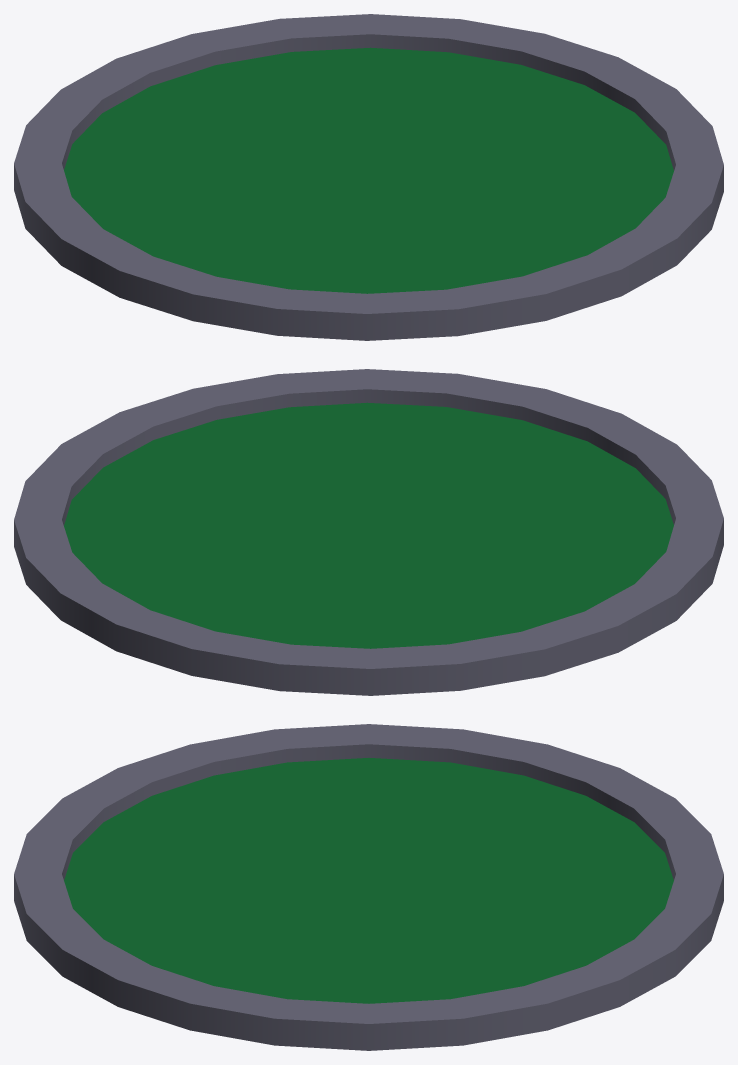
File: border_lawn_circle.fbx
The picture shows the model from 3 angles, top to bottom: view 1: azimuth 30°, elevation 25°; view 2: azimuth 150°, elevation 25°; view 3: azimuth 270°, elevation 25°; orthographic projection.
Parts seen in each view (by area): view 1: border_lawn_circle; view 2: border_lawn_circle; view 3: border_lawn_circle.
Boxes of the visible parts, x1,y1,x2,y2 form: border_lawn_circle: (14,14,723,340); border_lawn_circle: (14,369,723,695); border_lawn_circle: (14,724,723,1050).
Size of the model in its own units: 264 by 11.05 by 264.
